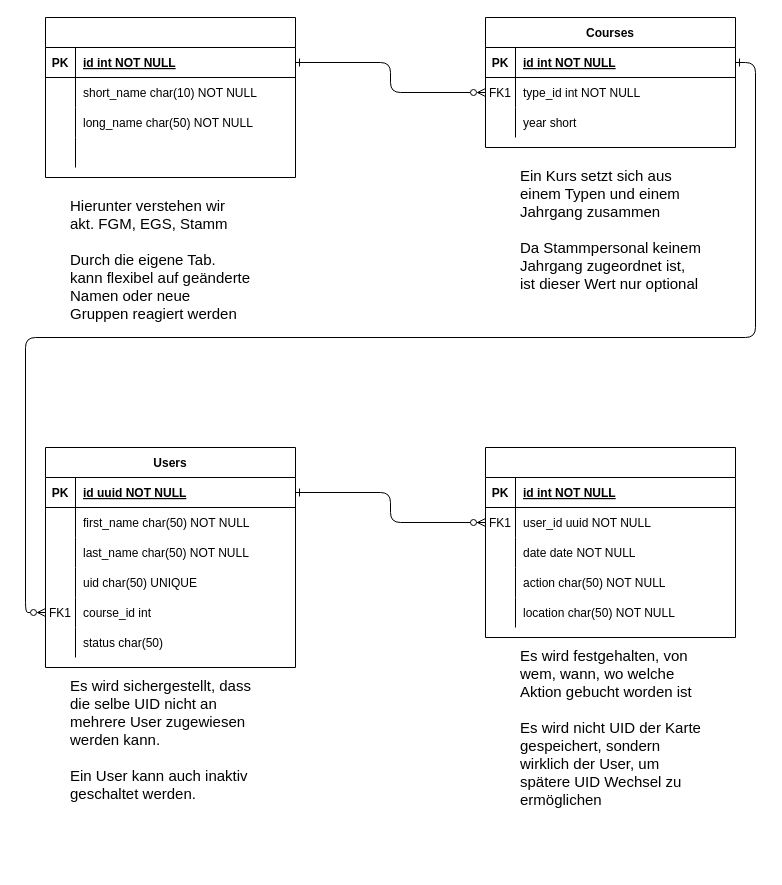
This 782x885 diagram has some shape labels left out. Here are the shapes that lost their labels. From the top down, the box of each, then its label:
(44, 16, 296, 178): CourseTypes
(484, 446, 736, 638): Bookings
